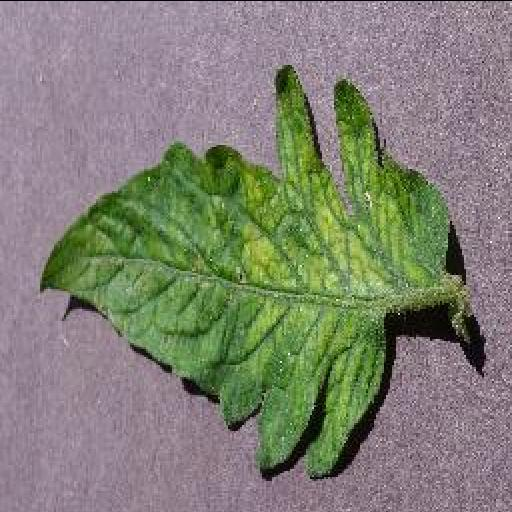disease_tomato: (30, 60, 452, 476)
